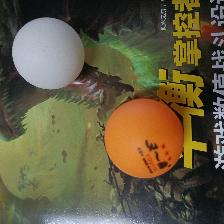WhiteBall: (11, 17, 84, 89)
YellowBall: (103, 98, 184, 178)
